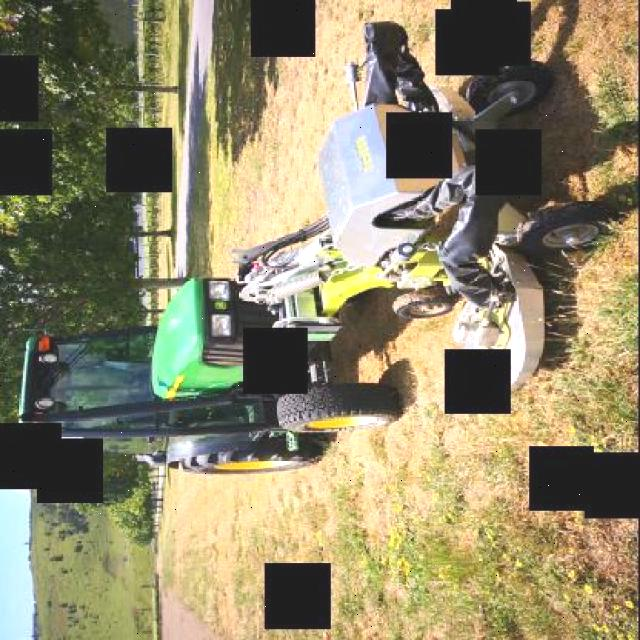Tratores - v5 YOLO V8L 2024-11-13: (0, 164, 440, 530)
